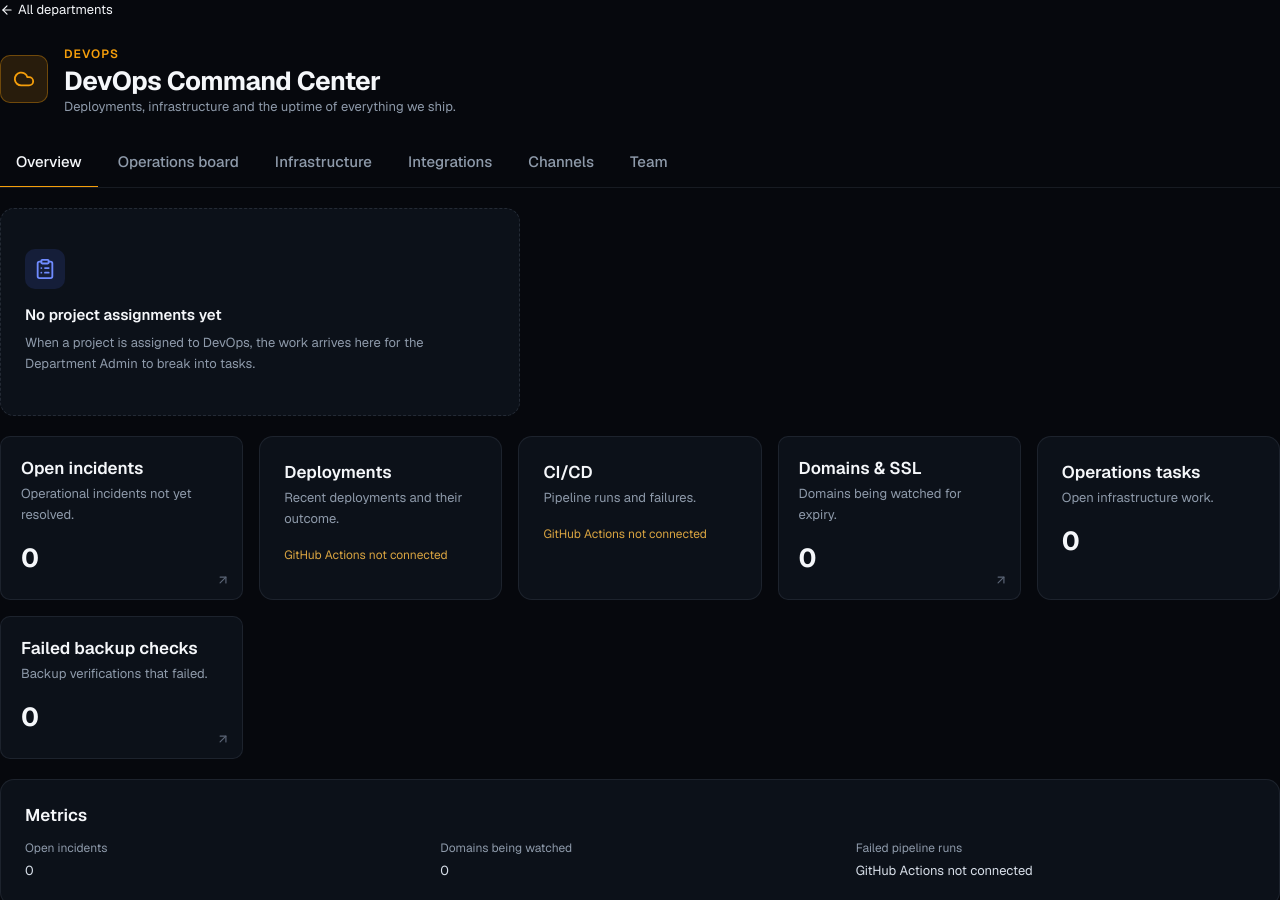
it: Department environment › Team › explains an empty department instead of showing fake people
Click the tab "Team" at (649, 163), box [614,138,684,188]
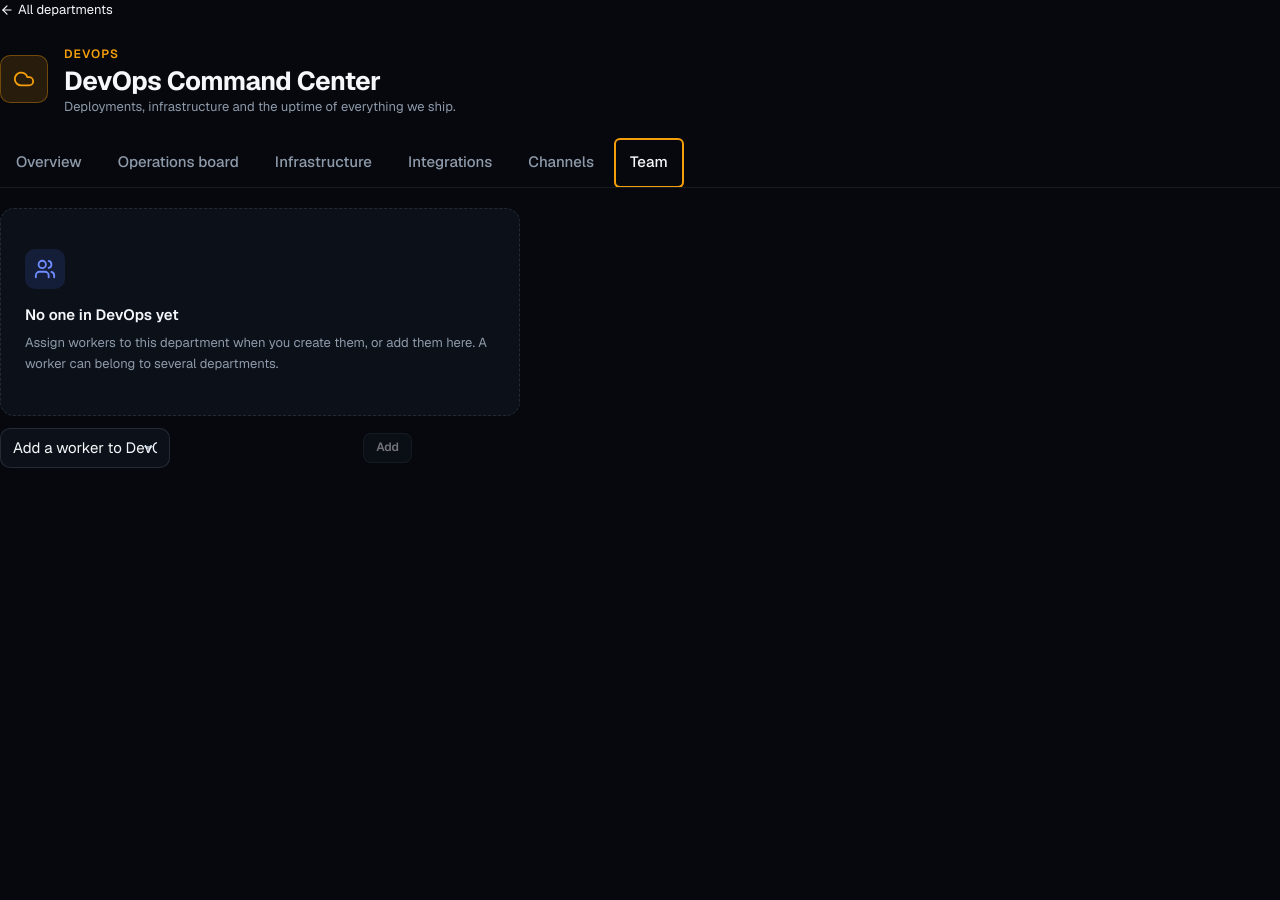
Check: the heading "No one in DevOps yet" is shown, box [25,305,179,326]
